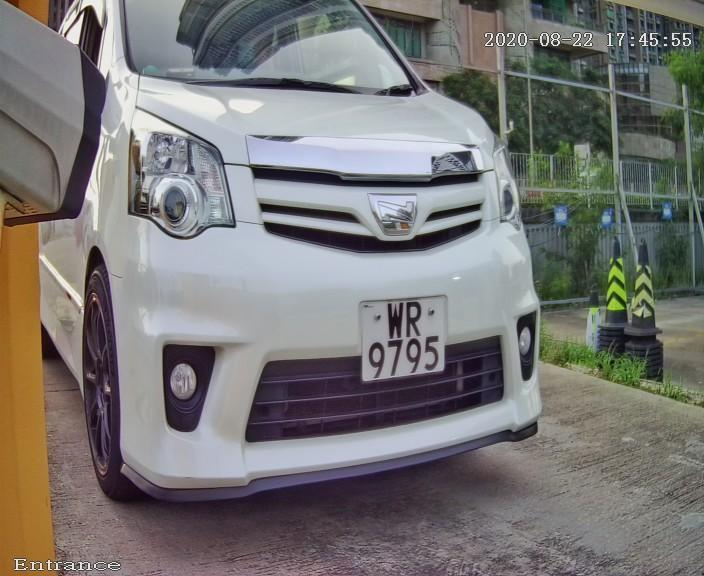Car: (35, 1, 582, 535)
License Plate: (349, 281, 459, 397)
